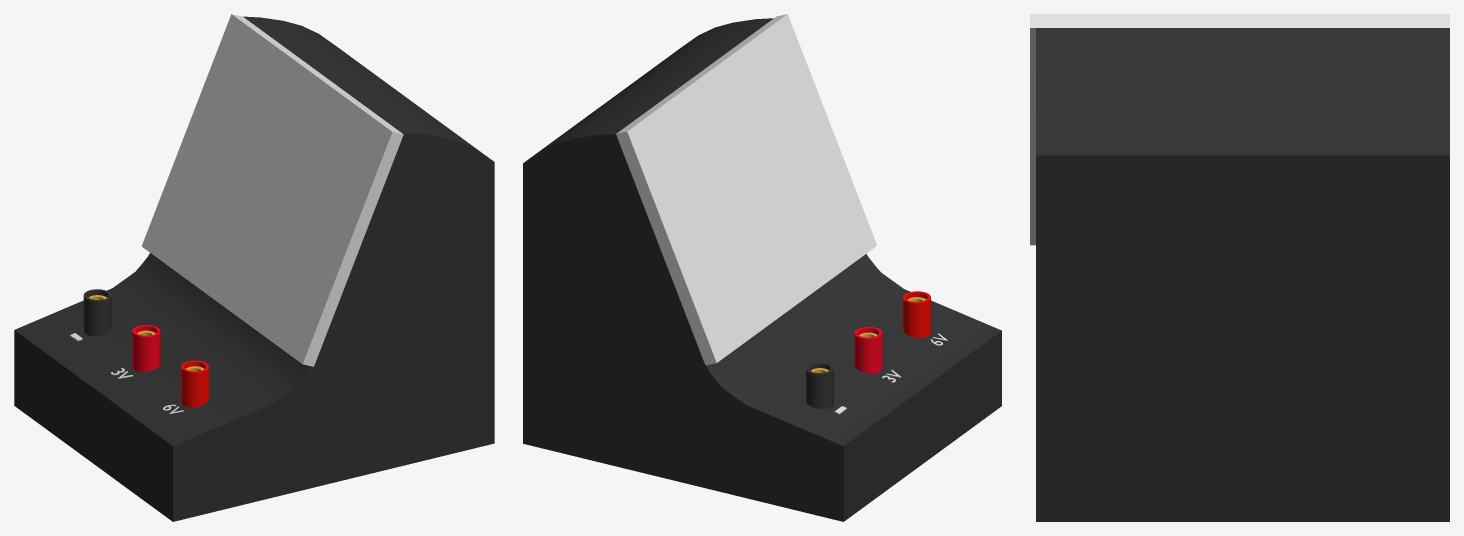
File: Вольтметр.fbx
3 renders of one model, left to right at view 1: azimuth 30°, elevation 25°; view 2: azimuth 150°, elevation 25°; view 3: azimuth 270°, elevation 25°, orthographic. The views are drawn at different scales.
Parts seen in each view (by area): view 1: Амперметр, Стекло, Цилиндр.005, Цилиндр, Цилиндр.002; view 2: Амперметр, Стекло, Цилиндр.002, Цилиндр, Цилиндр.005; view 3: Амперметр, Стекло.
Part boxes in pixels (bbox=[...]): Амперметр: bbox=[14, 16, 494, 521]; Стекло: bbox=[141, 14, 403, 366]; Цилиндр.005: bbox=[181, 360, 209, 407]; Цилиндр: bbox=[83, 289, 111, 336]; Цилиндр.002: bbox=[132, 325, 160, 371]; Амперметр: bbox=[523, 18, 1001, 521]; Стекло: bbox=[616, 14, 876, 365]; Цилиндр.002: bbox=[854, 327, 882, 373]; Цилиндр: bbox=[806, 362, 833, 409]; Цилиндр.005: bbox=[903, 291, 930, 338]; Амперметр: bbox=[1036, 28, 1449, 521]; Стекло: bbox=[1030, 14, 1449, 245].
Size of the model in its own units: 1350 by 1358 by 1170.
